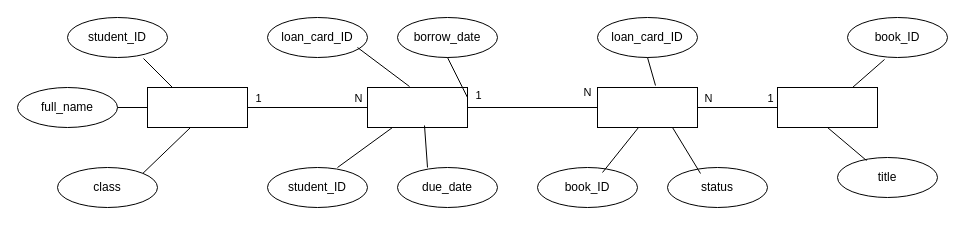
Some shapes in this 965 by 225 pixel diagram are drawn without their labels. Here are the shapes that lost their labels. From the top down, the centre of each, then its label:
At (197,107): "students".
At (417,107): "loan_cards".
At (647,107): "loan_details".
At (827,107): "books".
